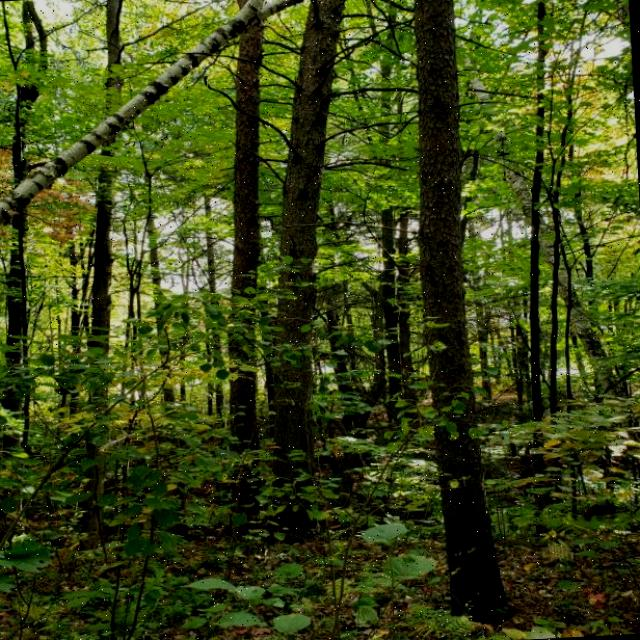fallen_object: (0, 0, 373, 247)
